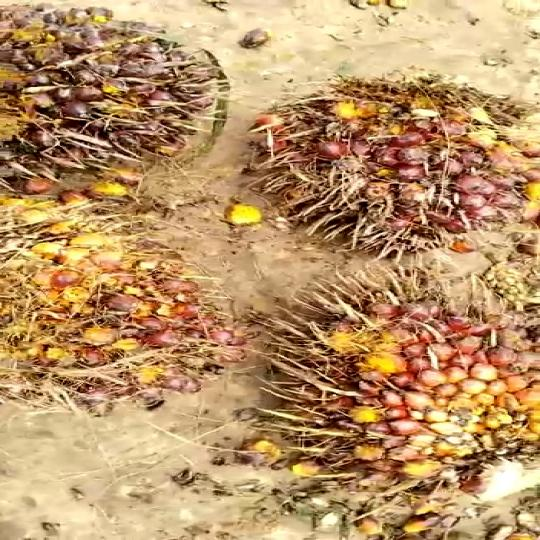masak: (226, 272, 540, 518), (0, 202, 221, 439), (246, 73, 540, 250), (0, 0, 227, 197)
